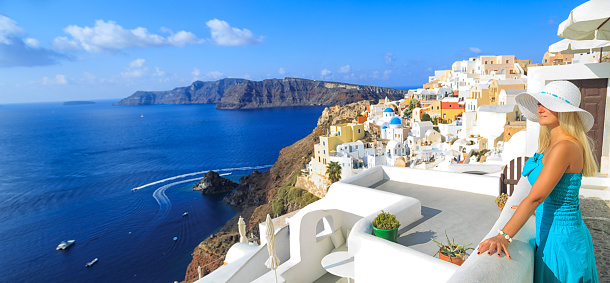em pe: (479, 89, 595, 283)
